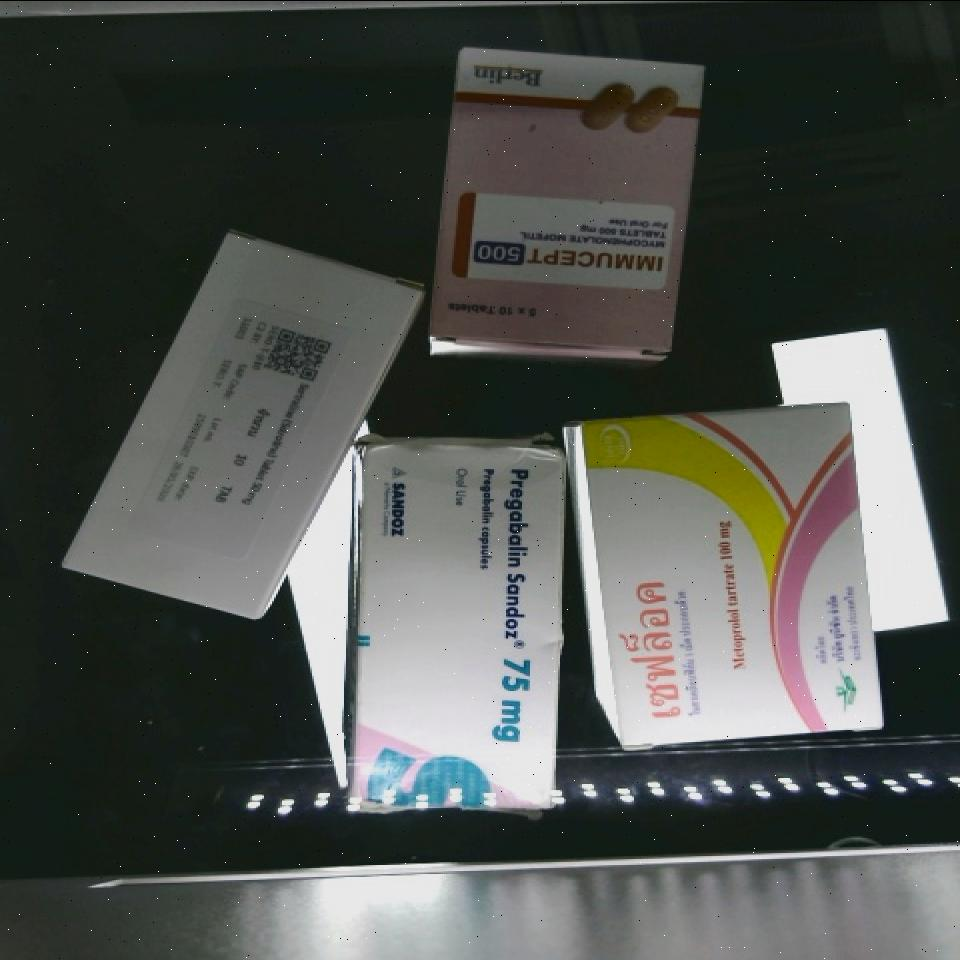medicine_box: (59, 198, 424, 656), (571, 388, 886, 761), (424, 34, 700, 373), (349, 439, 560, 814)
medicine_label_obb: (480, 446, 552, 752), (598, 553, 696, 748), (453, 228, 677, 289)
qr_code: (229, 303, 344, 411)
